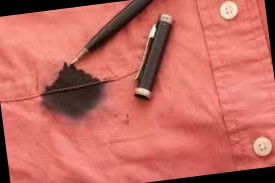ink: (41, 68, 101, 115)
